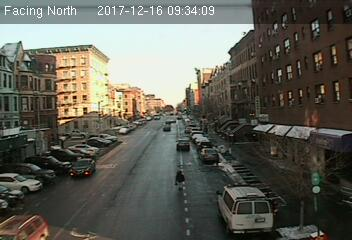car: (68, 157, 97, 180), (175, 137, 192, 153), (199, 148, 218, 162), (162, 123, 172, 132)
pedestrian: (173, 170, 186, 193)
police: (215, 183, 278, 236)
